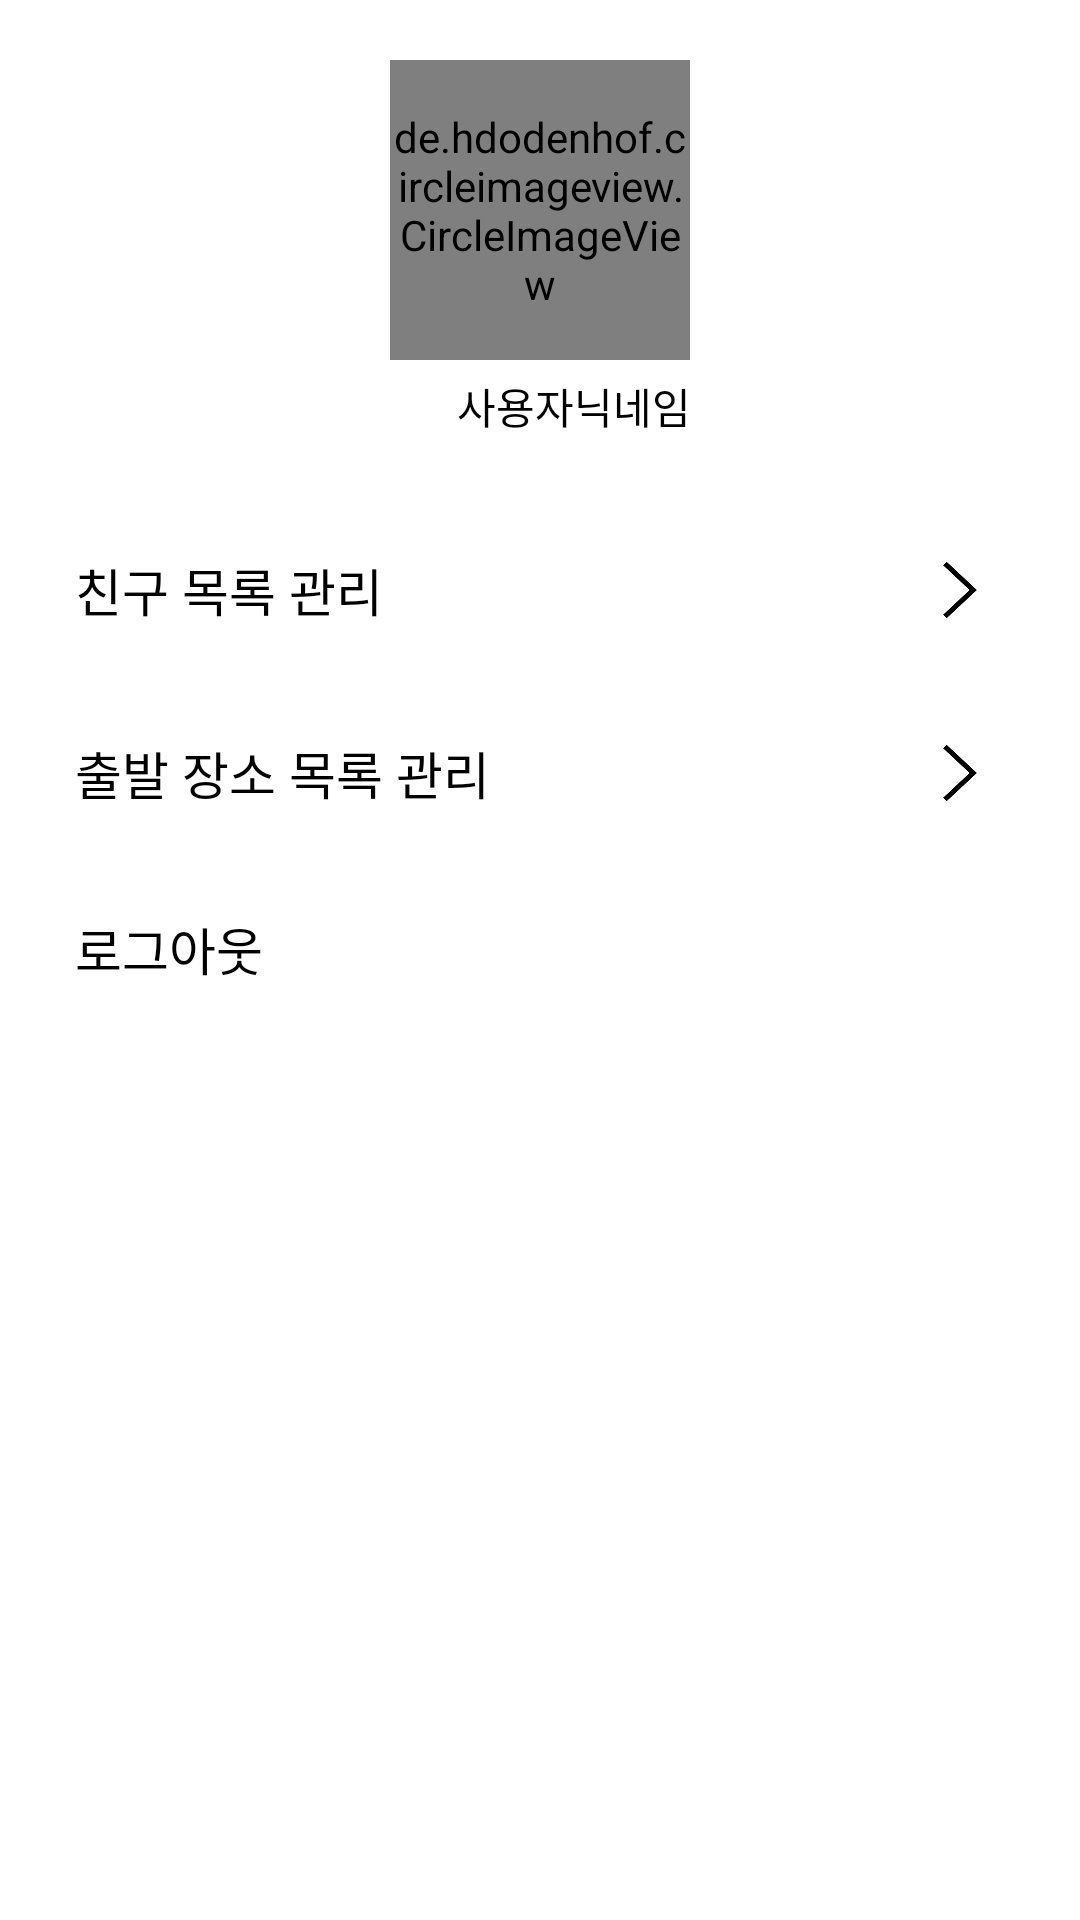

Point at icon controls on the screen. Image size 1080 x 1920, points as point (x, y).
right arrow: point (960, 590), point (960, 773)
